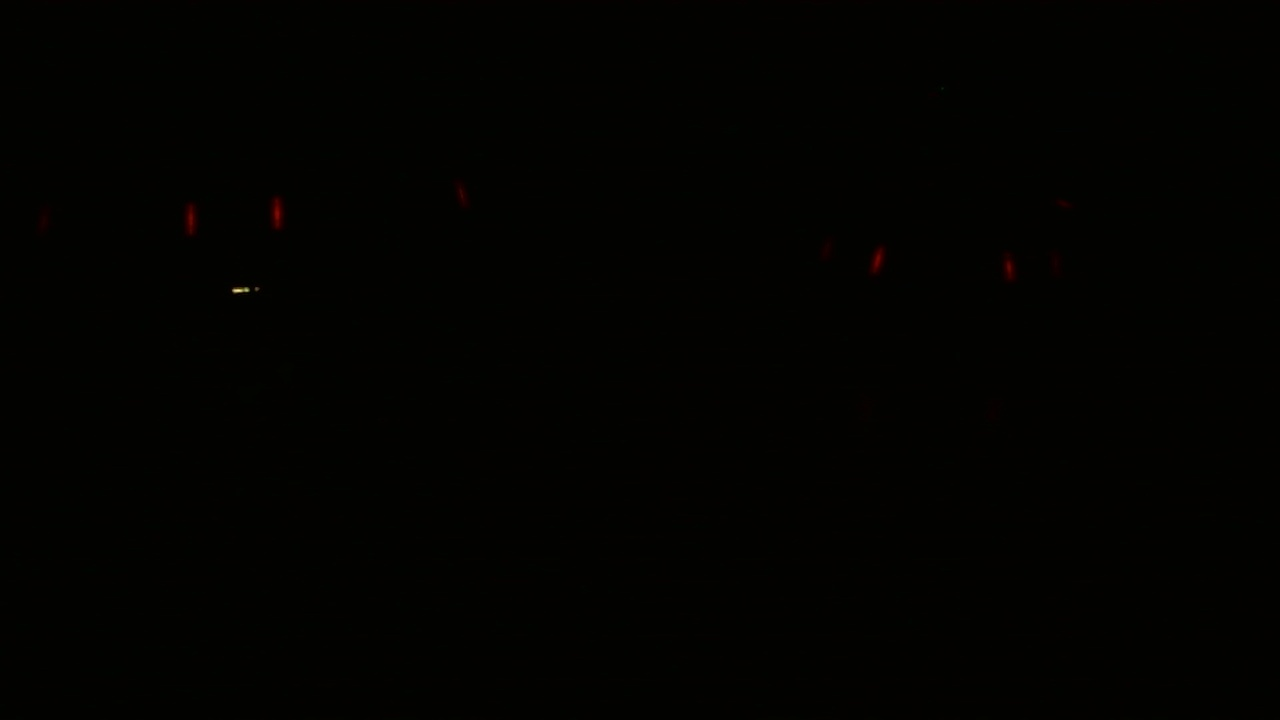pair1: (180, 196, 290, 234), (1000, 249, 1058, 280)
